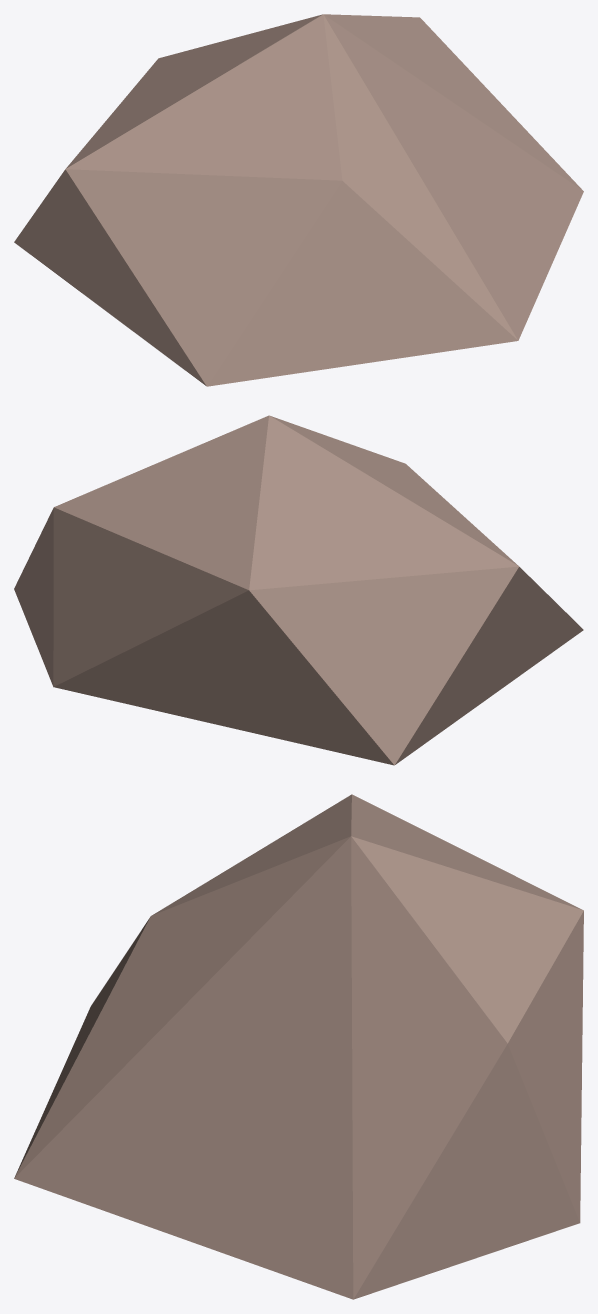
The model's file is Rock3.fbx.
3 views of the same model, one above another, from view 1: azimuth 30°, elevation 25°; view 2: azimuth 150°, elevation 25°; view 3: azimuth 270°, elevation 25° (orthographic). The views are drawn at different scales.
Visible parts, largest first — view 1: rock_GEO; view 2: rock_GEO; view 3: rock_GEO.
Boxes of the visible parts, left/top/right/bottom form: rock_GEO: left=14, top=14, right=583, bottom=386; rock_GEO: left=14, top=415, right=583, bottom=765; rock_GEO: left=14, top=794, right=583, bottom=1299.
Size of the model in its own units: 53.72 by 24.18 by 40.69.
